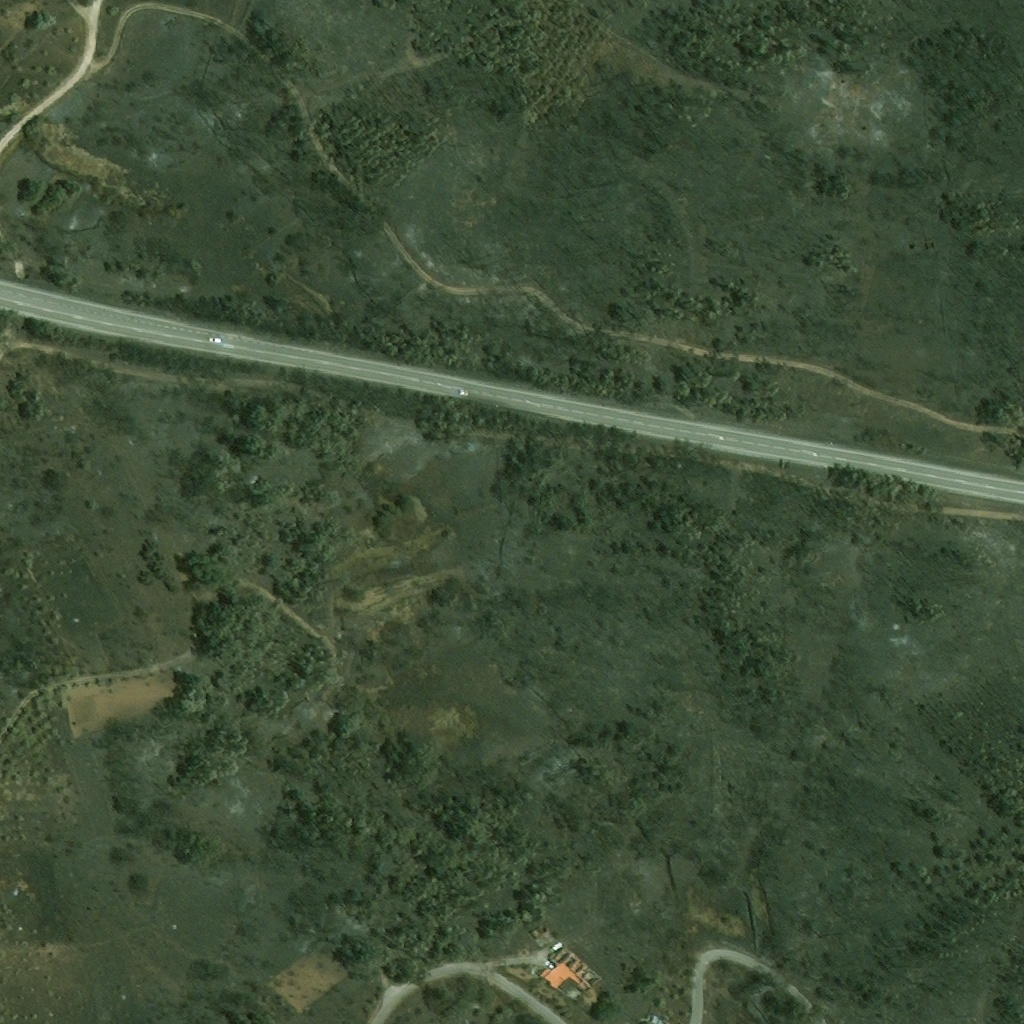2 major-damage: (537, 943, 604, 994)
3 destroyed: (530, 922, 549, 939)
